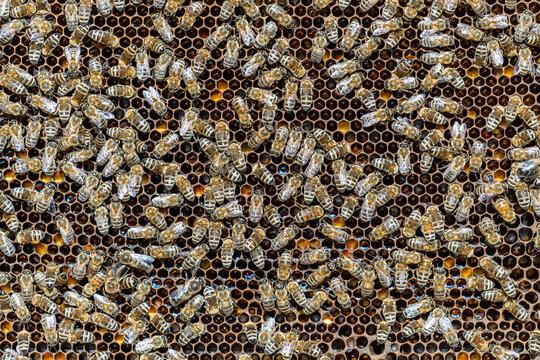worker-bee: (514, 11, 534, 72), (170, 278, 204, 305), (116, 250, 153, 272), (26, 16, 53, 45), (151, 133, 180, 159), (82, 103, 113, 127), (182, 244, 208, 272), (271, 224, 298, 250), (421, 64, 446, 92), (306, 263, 335, 287), (370, 216, 399, 240), (77, 171, 99, 202), (5, 64, 36, 86), (330, 277, 352, 308), (143, 87, 167, 115), (266, 4, 294, 28), (339, 19, 360, 51), (179, 107, 199, 140), (475, 181, 506, 202), (205, 24, 230, 50), (353, 37, 380, 61), (180, 2, 203, 30), (417, 18, 449, 38), (390, 118, 419, 140), (284, 127, 303, 160), (278, 175, 302, 201), (354, 172, 380, 196), (82, 270, 105, 297), (443, 154, 466, 181), (296, 134, 316, 165), (394, 93, 425, 113), (403, 298, 434, 318), (438, 315, 458, 346), (158, 222, 186, 244), (479, 217, 501, 245), (63, 290, 92, 311), (335, 257, 364, 278), (479, 257, 508, 278), (514, 45, 535, 74), (360, 108, 392, 127), (248, 123, 272, 148), (241, 51, 265, 76), (0, 19, 25, 43), (93, 293, 118, 317), (60, 161, 86, 184), (254, 21, 277, 47), (89, 181, 111, 208), (96, 138, 118, 165), (167, 59, 185, 92), (232, 96, 251, 127), (182, 67, 201, 98), (135, 335, 166, 354), (372, 256, 391, 287), (103, 150, 124, 178), (10, 293, 30, 322), (152, 13, 172, 42), (154, 48, 172, 80), (327, 60, 359, 78), (303, 290, 327, 314), (178, 322, 203, 345), (36, 183, 55, 213), (212, 200, 242, 219), (319, 223, 349, 242), (443, 183, 462, 213), (130, 278, 150, 306), (304, 149, 324, 177), (454, 193, 474, 221), (87, 29, 118, 47), (246, 87, 277, 105), (270, 125, 288, 156), (125, 109, 149, 132), (504, 298, 528, 321), (0, 73, 26, 94), (336, 73, 362, 94), (494, 197, 515, 223), (41, 141, 57, 175), (369, 18, 401, 35), (55, 214, 73, 244), (294, 205, 324, 223), (454, 23, 484, 41), (28, 95, 56, 114), (429, 97, 462, 113), (72, 249, 89, 280), (274, 283, 291, 314), (486, 37, 503, 68), (469, 140, 486, 171), (236, 16, 254, 45), (268, 38, 288, 64), (91, 312, 118, 331), (175, 174, 194, 201), (258, 68, 285, 87), (41, 314, 57, 346), (25, 116, 41, 148), (258, 279, 274, 311), (223, 36, 239, 68), (426, 205, 443, 235), (300, 247, 330, 264), (192, 48, 210, 76), (360, 191, 376, 222), (151, 193, 184, 208), (476, 15, 509, 30), (32, 294, 58, 313), (87, 250, 104, 279), (418, 107, 447, 124), (258, 317, 275, 346), (384, 76, 419, 90), (87, 94, 114, 112), (402, 210, 420, 237), (145, 206, 166, 229), (243, 228, 264, 251), (217, 285, 233, 315), (115, 170, 131, 200), (311, 32, 327, 62), (277, 251, 292, 283), (507, 146, 539, 161), (420, 33, 454, 47), (229, 143, 246, 171), (191, 217, 209, 243), (391, 249, 422, 264), (12, 157, 41, 173), (64, 46, 80, 75), (450, 122, 466, 151), (19, 269, 33, 302), (283, 78, 297, 111), (299, 78, 313, 111), (249, 189, 263, 222), (407, 237, 440, 251), (63, 111, 83, 134), (280, 332, 297, 359), (41, 33, 60, 57), (420, 51, 455, 64), (9, 121, 24, 151), (36, 69, 54, 94), (416, 256, 431, 286), (231, 218, 245, 250), (88, 58, 102, 90), (332, 160, 346, 192), (109, 195, 122, 229), (210, 152, 229, 175), (94, 205, 109, 234), (64, 0, 78, 31), (396, 143, 410, 174), (62, 307, 89, 323), (123, 139, 139, 166), (147, 245, 180, 258), (136, 47, 149, 80), (15, 229, 45, 243), (208, 221, 223, 249), (394, 262, 408, 292), (443, 227, 473, 241), (126, 225, 158, 238), (447, 241, 473, 257), (130, 164, 143, 195), (11, 2, 36, 18), (433, 268, 445, 301), (108, 64, 136, 78), (0, 230, 15, 256), (57, 97, 72, 123), (67, 329, 94, 343), (210, 176, 224, 203), (106, 85, 135, 98), (141, 158, 166, 173), (382, 298, 396, 324), (44, 263, 58, 288), (58, 135, 81, 150), (221, 240, 233, 267), (17, 329, 29, 354), (34, 60, 35, 61), (278, 151, 280, 151)
